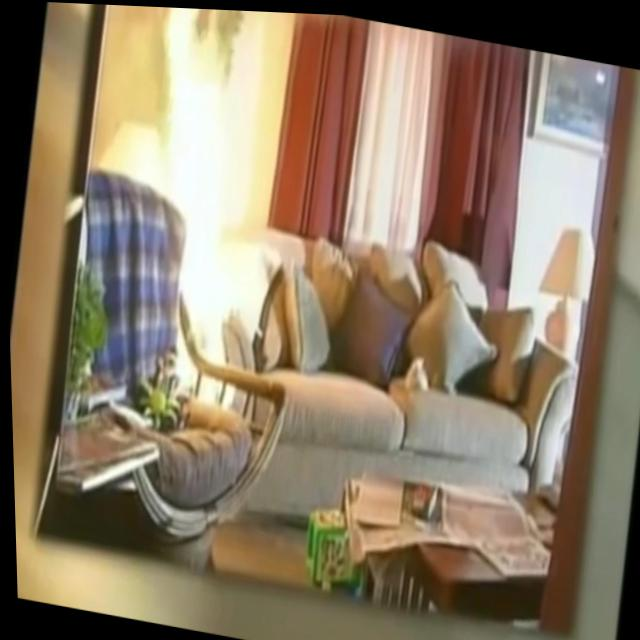fire: (120, 4, 283, 386)
